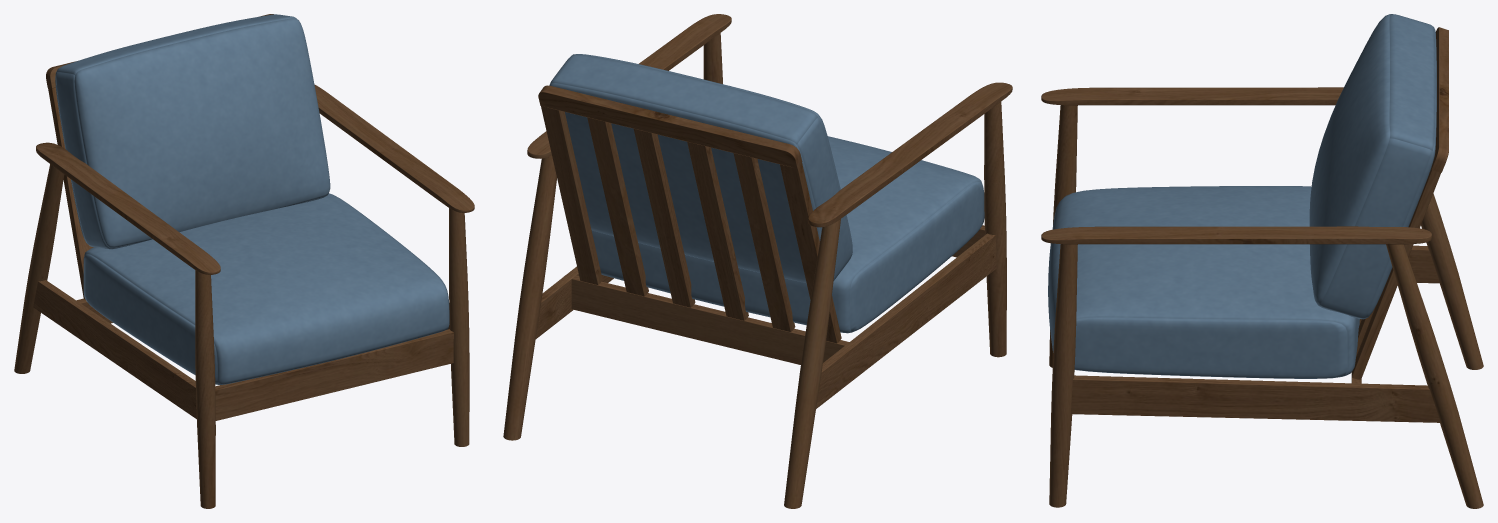
The model's file is chair_66_01.001.fbx.
The picture shows the model from 3 angles, left to right: view 1: azimuth 30°, elevation 25°; view 2: azimuth 150°, elevation 25°; view 3: azimuth 270°, elevation 25°; orthographic projection. The views are drawn at different scales.
Visible parts, largest first — view 1: chair_66_01.001; view 2: chair_66_01.001; view 3: chair_66_01.001.
Boxes of the visible parts, x1,y1,x2,y2 form: chair_66_01.001: [14, 14, 474, 508]; chair_66_01.001: [503, 14, 1012, 508]; chair_66_01.001: [1041, 14, 1483, 508].
Size of the model in its own units: 76.92 by 87.18 by 95.18.
1 material, 1 textured.
